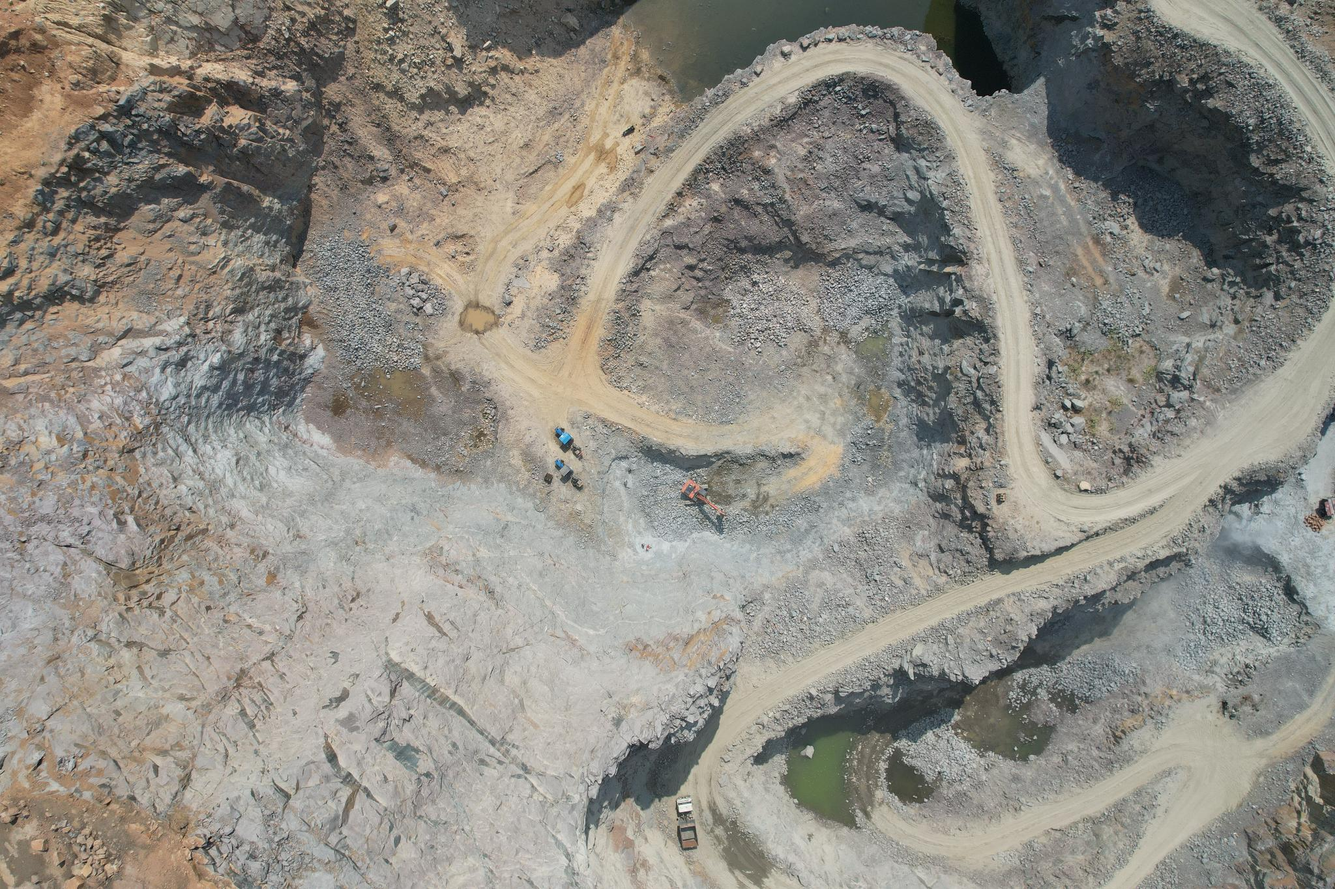benches: (464, 41, 1335, 779), (876, 668, 1335, 889), (1150, 0, 1335, 175)
excavator: (673, 463, 727, 541)
truck: (656, 780, 712, 865)
